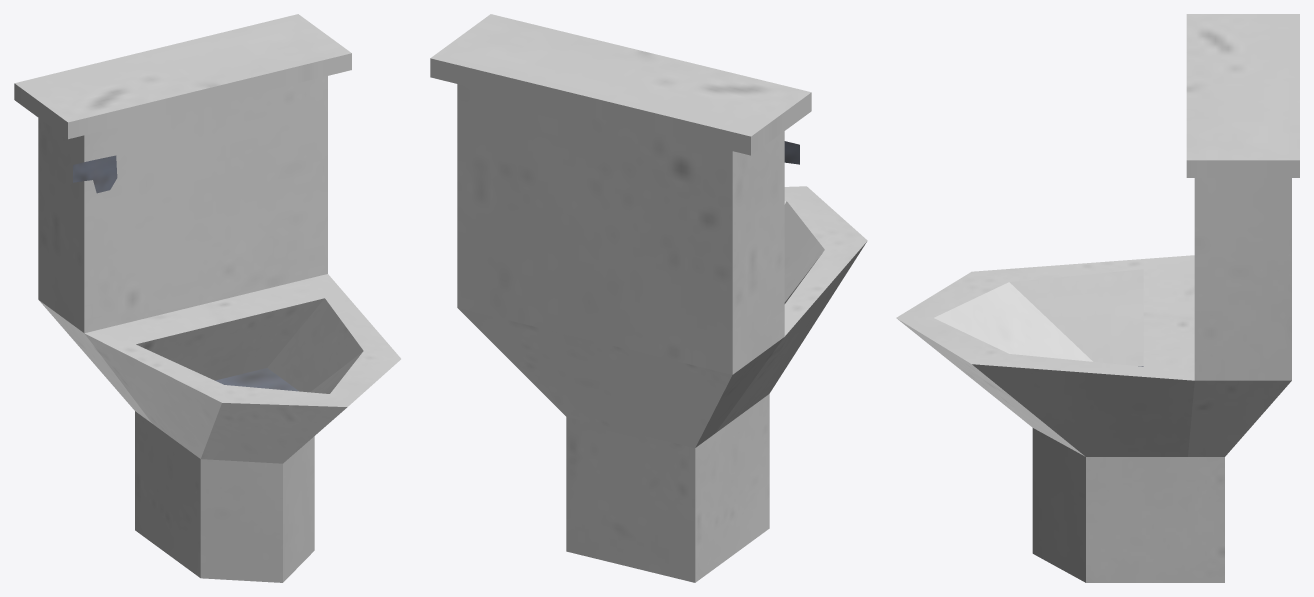
File: Toilette.fbx
The picture shows the model from 3 angles, left to right: view 1: azimuth 30°, elevation 25°; view 2: azimuth 150°, elevation 25°; view 3: azimuth 270°, elevation 25°; orthographic projection. The views are drawn at different scales.
Visible parts, largest first — view 1: Cube; view 2: Cube; view 3: Cube.
Boxes of the visible parts, box(x1,y1,x2,y2) form: Cube: box(14, 14, 400, 582); Cube: box(430, 14, 867, 582); Cube: box(896, 14, 1299, 582).
Bounding box in the file's own units: 498 × 741 × 581.
